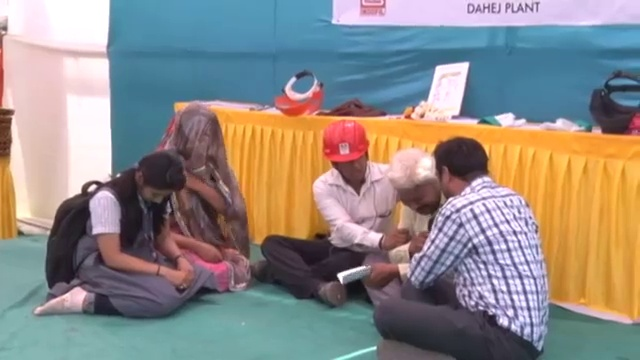helmet: (322, 113, 373, 161)
helmet_off: (431, 138, 495, 205), (389, 150, 447, 219), (165, 108, 223, 167), (126, 152, 184, 207)
helmet_on: (319, 123, 378, 189)
person: (365, 134, 549, 360), (32, 147, 212, 322), (258, 104, 409, 303), (157, 95, 252, 294), (358, 147, 449, 307)
